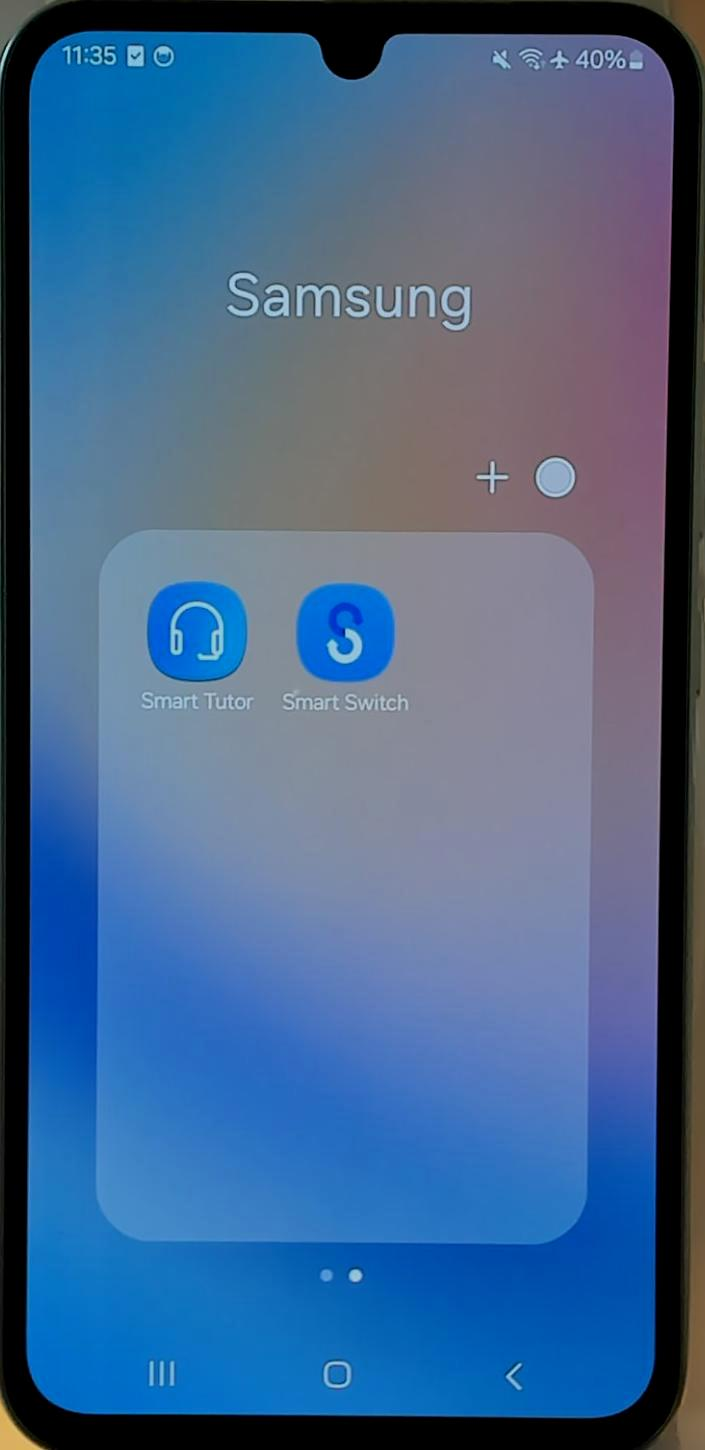CommunBotton: (276, 562, 420, 722), (134, 568, 260, 716), (464, 438, 512, 500), (138, 1340, 186, 1398), (312, 1336, 358, 1396), (494, 1340, 536, 1402)
RadioButton: (534, 446, 576, 506)
